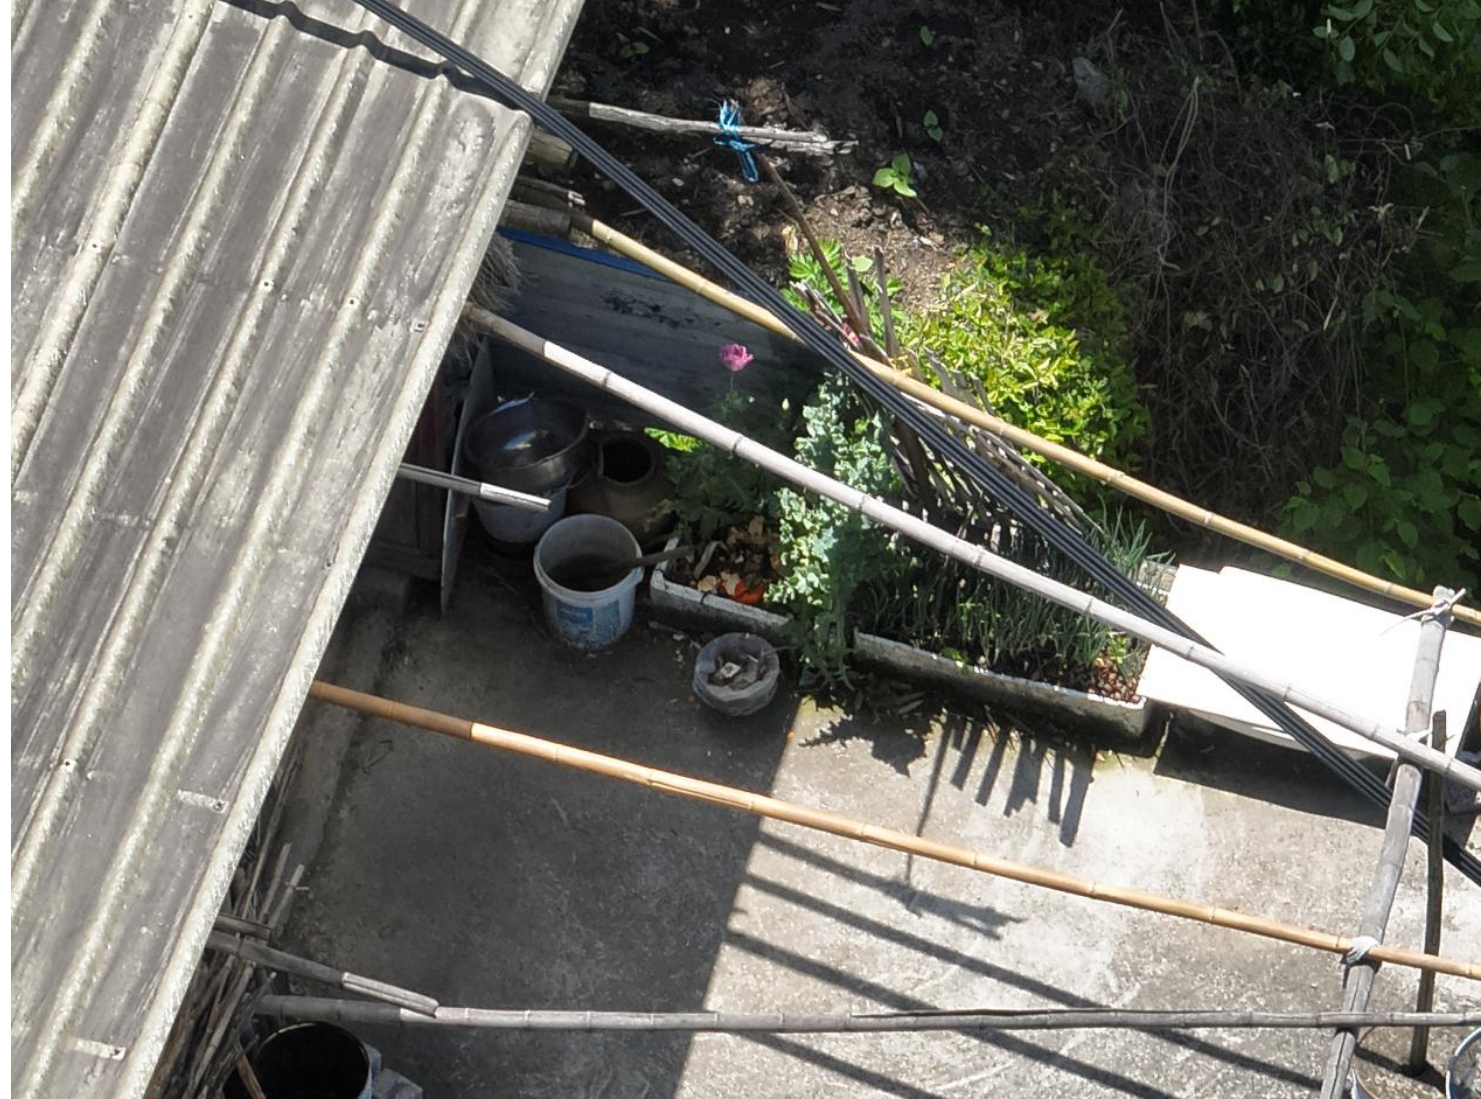Poppy: (653, 320, 927, 660)
